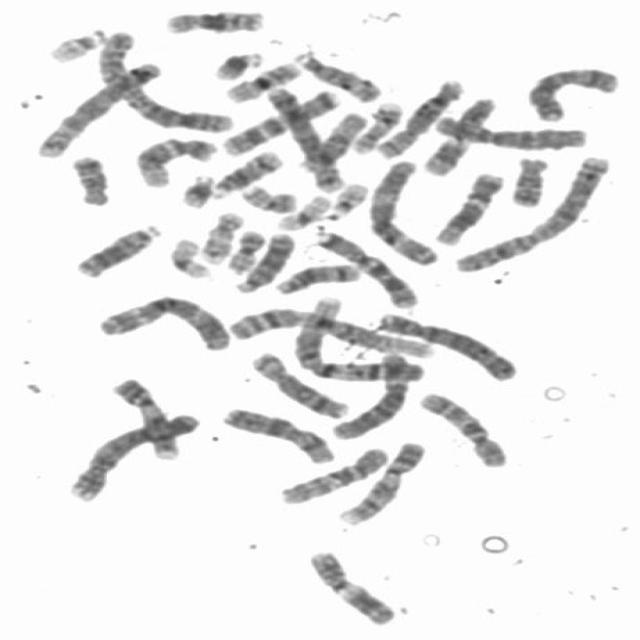A1: (285, 291, 429, 385), (225, 301, 439, 360)
A2: (448, 151, 616, 274), (90, 25, 236, 135)
A3: (362, 155, 443, 267), (93, 290, 235, 351)
B4: (62, 406, 202, 502), (369, 306, 521, 382)
B5: (30, 56, 166, 159), (260, 82, 346, 194)
C10: (412, 386, 512, 470), (274, 441, 394, 506)
C11: (301, 544, 401, 628), (415, 92, 500, 177)
C12: (429, 166, 508, 246), (130, 132, 220, 188)
C6: (325, 346, 416, 441), (428, 110, 592, 151)
C7: (306, 223, 420, 310), (217, 84, 346, 158)
C8: (369, 74, 466, 160), (244, 346, 354, 420)
C9: (332, 436, 430, 527), (106, 372, 183, 462)
D13: (70, 219, 166, 280), (226, 226, 298, 295)
D14: (205, 146, 286, 200), (270, 258, 362, 295)
D15: (289, 46, 386, 103), (294, 107, 371, 171)
E16: (221, 57, 304, 104), (158, 4, 270, 36)
E17: (347, 96, 405, 155), (194, 207, 246, 265)
E18: (64, 149, 114, 208), (504, 151, 552, 208)
F19: (271, 190, 333, 231), (164, 233, 215, 280)
F20: (220, 224, 270, 275), (234, 179, 300, 215)
G21: (207, 45, 266, 82), (175, 168, 218, 210)
G22: (42, 24, 111, 65), (321, 177, 372, 220)
X: (215, 402, 339, 466), (520, 61, 624, 123)
